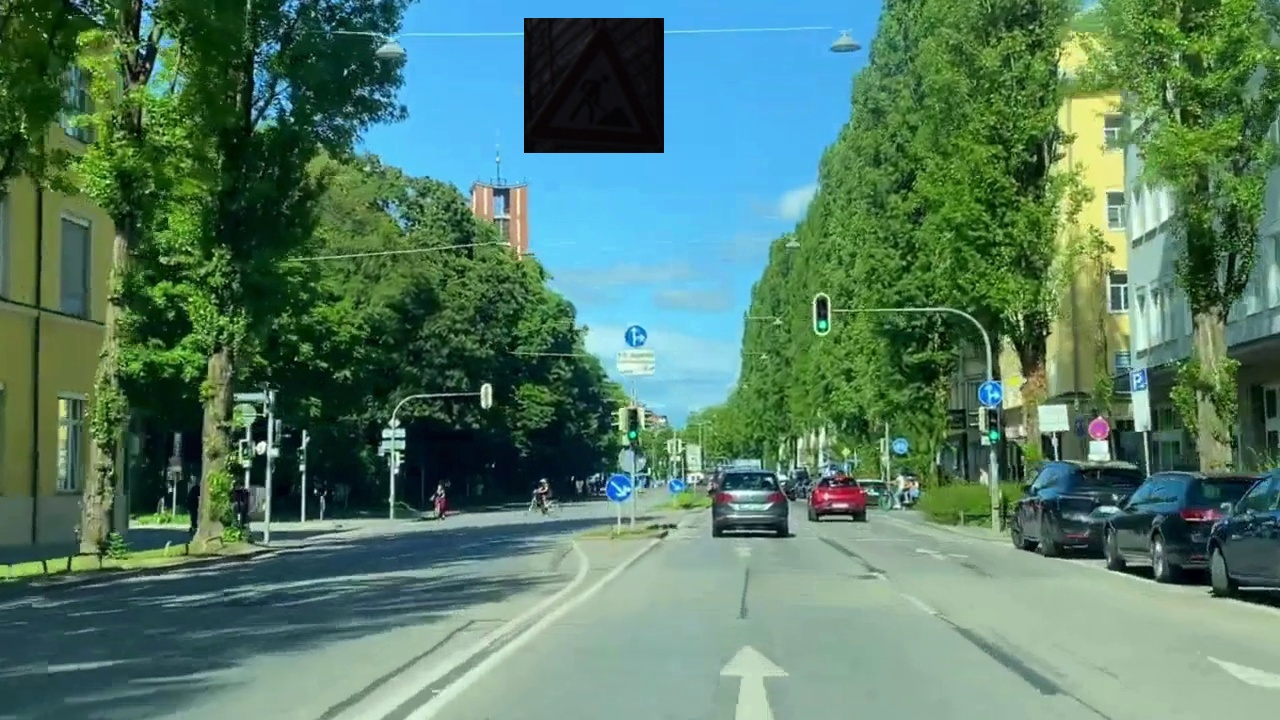Road work: (524, 18, 664, 153)
